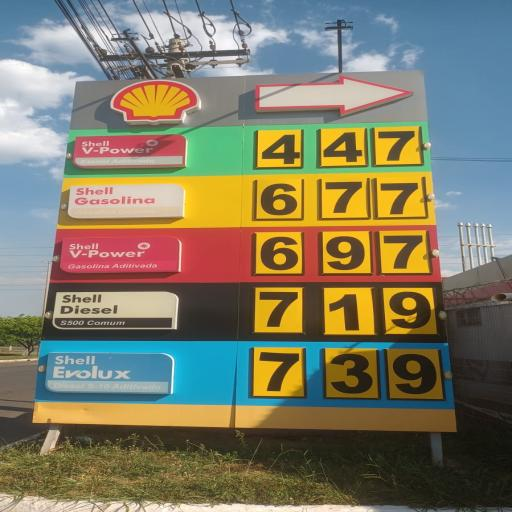ETANOL: (70, 134, 188, 168)
GASOLINA AD: (56, 235, 182, 276)
GASOLINA C: (64, 183, 186, 220)
S10: (47, 346, 177, 400)
S500: (51, 288, 182, 334)
placa: (44, 70, 469, 434)
preco: (244, 345, 452, 406), (249, 282, 442, 338), (250, 228, 438, 276), (247, 175, 432, 223), (253, 122, 429, 168)
